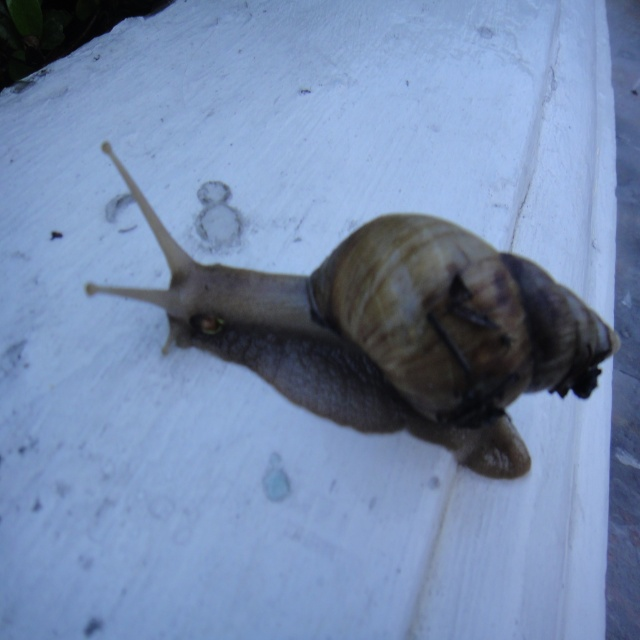Snail: (81, 139, 622, 485)
